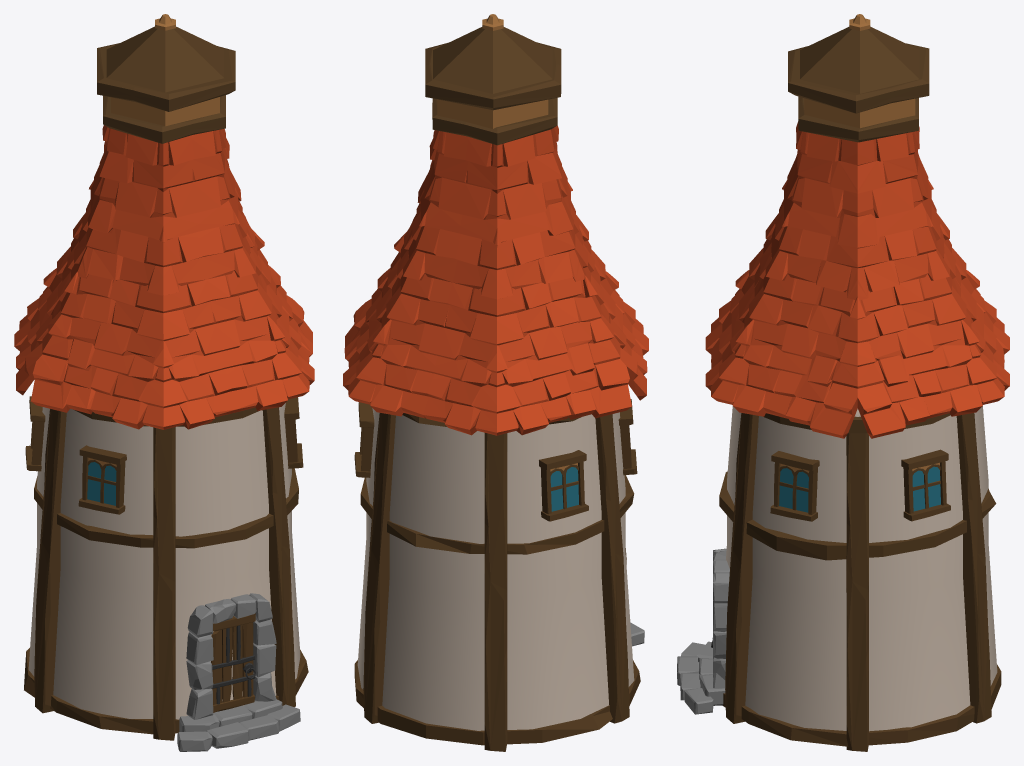
Rendered from SM_windmill_01.fbx.
3 views of the same model, side by side, from view 1: azimuth 30°, elevation 25°; view 2: azimuth 150°, elevation 25°; view 3: azimuth 270°, elevation 25° (orthographic).
Parts seen in each view (by area): view 1: Object32459; view 2: Object32459; view 3: Object32459.
Part boxes in pixels (bbox=[...]): Object32459: bbox=[14, 14, 314, 751]; Object32459: bbox=[343, 14, 648, 751]; Object32459: bbox=[677, 14, 1009, 751].
Bounding box in the file's own units: 290 × 649 × 290.
